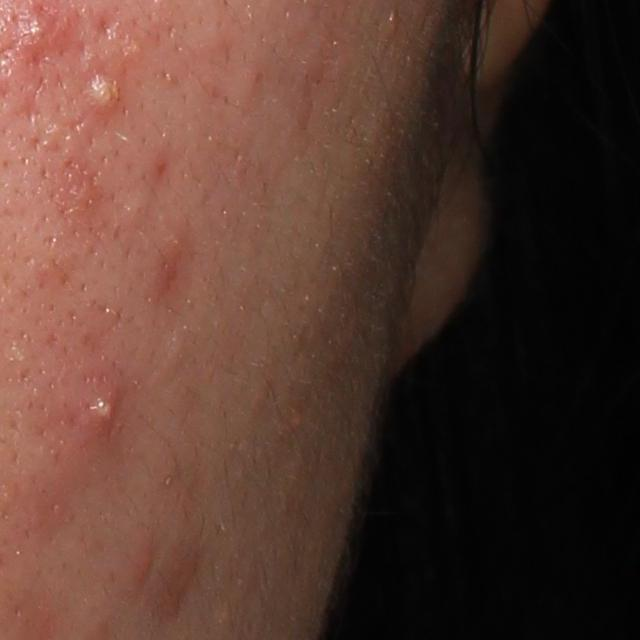atrophic_scar: (96, 12, 118, 41)
papule: (126, 535, 156, 604)
pustule: (82, 388, 126, 433), (88, 72, 123, 113)
